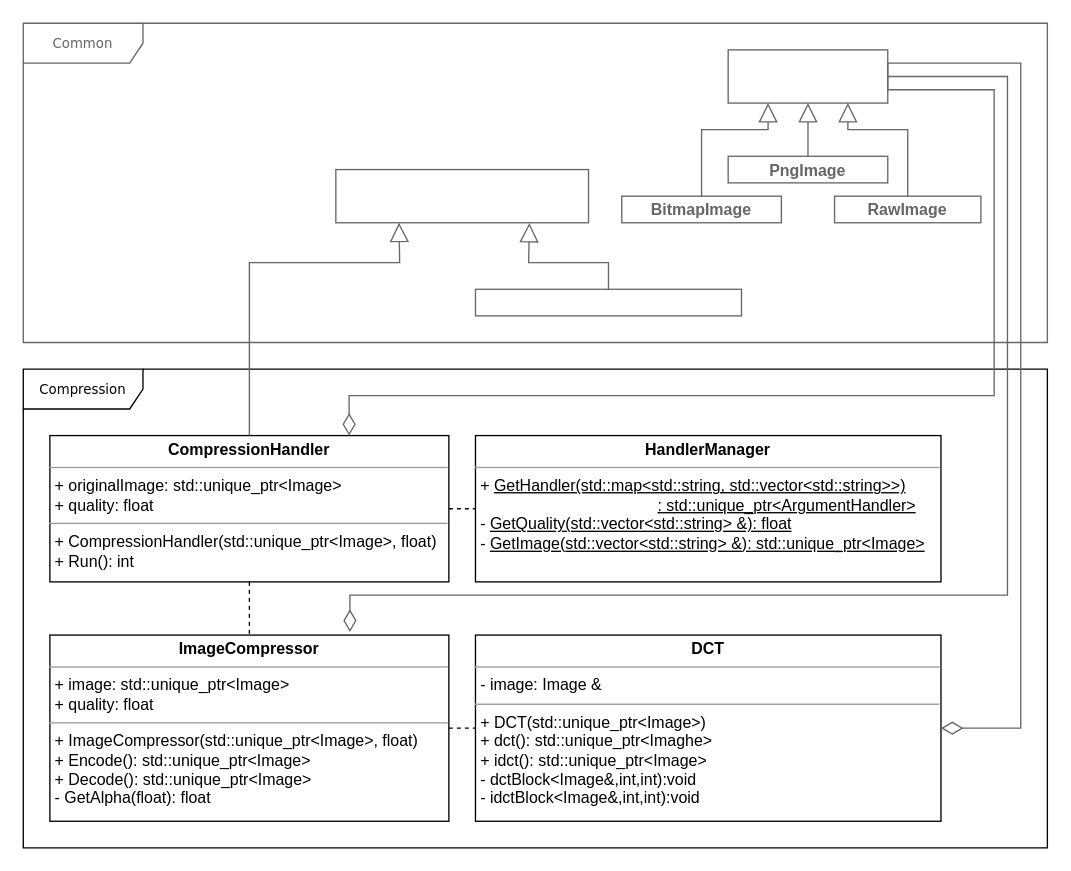
Image size: 1071x871. Some labels were removed from this diagram. Here are the shapes that lost their labels. From the top down, the centre of each, then its label:
At point 807,76: "Image".
At point 461,195: "<<Interface>> ArgumentHandler".
At point 607,302: "PrintMessageHandler".
